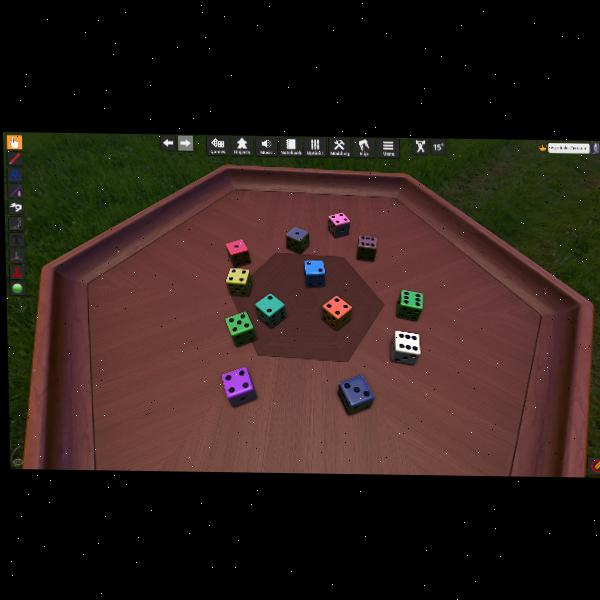d6: (337, 374, 374, 414), (221, 366, 256, 407), (225, 312, 257, 347), (255, 292, 286, 328), (321, 296, 352, 330), (391, 330, 420, 364), (396, 289, 423, 321), (226, 267, 252, 296), (225, 239, 250, 268), (285, 225, 309, 253), (303, 258, 325, 287), (327, 212, 349, 238), (356, 235, 377, 262)
